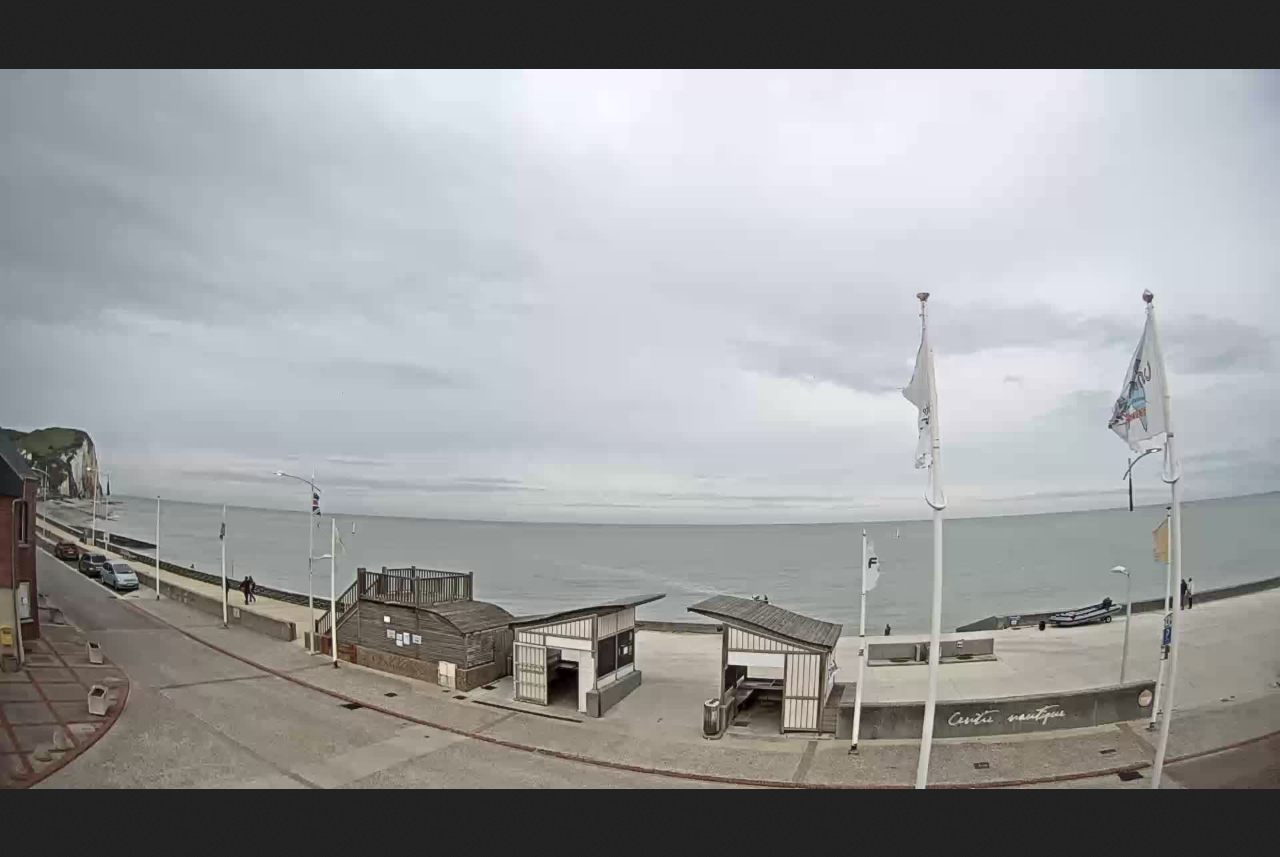maybe: (1102, 295, 1175, 458)
no: (898, 315, 945, 473), (213, 505, 229, 548)
